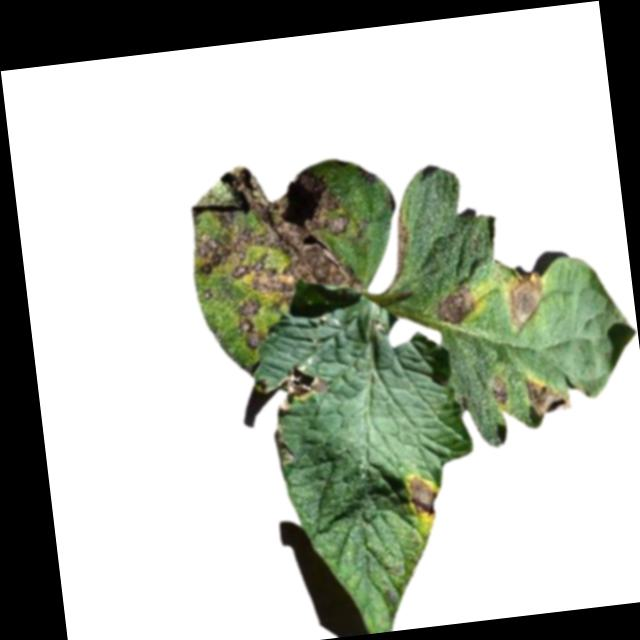Early_blight: (181, 152, 371, 307), (503, 264, 551, 336), (277, 362, 330, 413), (522, 370, 575, 416), (386, 207, 415, 282), (433, 282, 481, 326), (404, 473, 443, 522), (236, 300, 268, 353), (489, 376, 514, 411)
